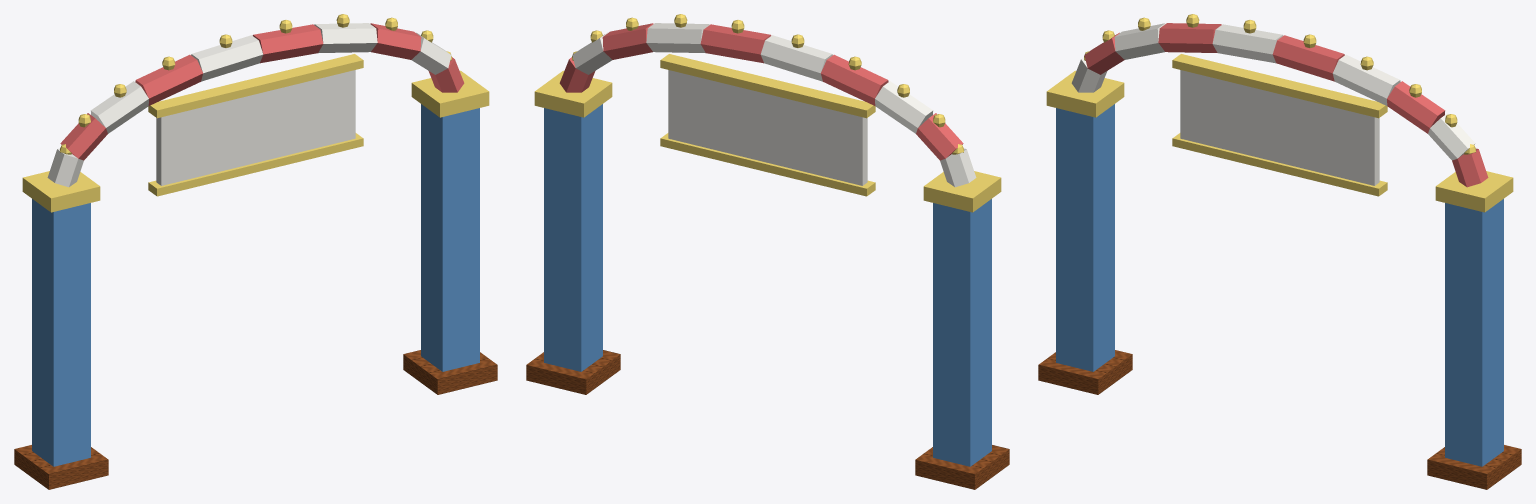
Rendered from travelling-circus-and-big-top-circus-entrance-arch-f85d3312__36236.glb.
3 views of the same model, side by side, from view 1: azimuth 30°, elevation 25°; view 2: azimuth 150°, elevation 25°; view 3: azimuth 330°, elevation 25° (orthographic).
Parts seen in each view (by area): view 1: circus-entrance-arch-azure, circus-entrance-arch-canvas, circus-entrance-arch-gold, circus-entrance-arch-stripe, circus-entrance-arch-timber; view 2: circus-entrance-arch-azure, circus-entrance-arch-canvas, circus-entrance-arch-gold, circus-entrance-arch-stripe, circus-entrance-arch-timber; view 3: circus-entrance-arch-azure, circus-entrance-arch-canvas, circus-entrance-arch-gold, circus-entrance-arch-stripe, circus-entrance-arch-timber.
Part boxes in pixels (bbox=[...]): circus-entrance-arch-azure: bbox=[32, 104, 479, 466]; circus-entrance-arch-canvas: bbox=[47, 23, 451, 187]; circus-entrance-arch-gold: bbox=[22, 14, 489, 212]; circus-entrance-arch-stripe: bbox=[60, 23, 464, 160]; circus-entrance-arch-timber: bbox=[14, 350, 497, 489]; circus-entrance-arch-azure: bbox=[544, 104, 991, 466]; circus-entrance-arch-canvas: bbox=[572, 23, 976, 187]; circus-entrance-arch-gold: bbox=[534, 14, 1001, 212]; circus-entrance-arch-stripe: bbox=[559, 23, 963, 160]; circus-entrance-arch-timber: bbox=[526, 350, 1009, 489]; circus-entrance-arch-azure: bbox=[1056, 104, 1503, 466]; circus-entrance-arch-canvas: bbox=[1071, 23, 1475, 185]; circus-entrance-arch-gold: bbox=[1046, 14, 1513, 212]; circus-entrance-arch-stripe: bbox=[1084, 23, 1488, 187]; circus-entrance-arch-timber: bbox=[1038, 350, 1521, 489].
Bounding box in the file's own units: 6 × 5.05 × 0.7998.
Materials: 5 (1 with a texture image).
